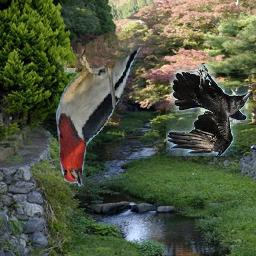Crow: (167, 64, 250, 156)
Woodpecker: (52, 31, 144, 193)
